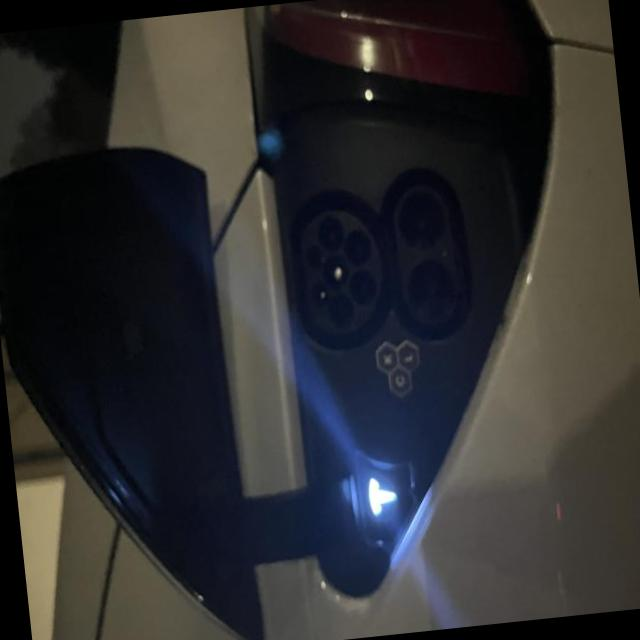inlet: (299, 208, 381, 334)
inlet-above-left: (309, 281, 327, 308)
inlet-above-right: (306, 243, 321, 271)
inlet-below-left: (348, 269, 375, 303)
inlet-below-right: (344, 229, 370, 264)
inlet-center: (322, 254, 348, 289)
inlet-center-left: (327, 292, 353, 329)
inlet-center-right: (317, 215, 342, 251)
